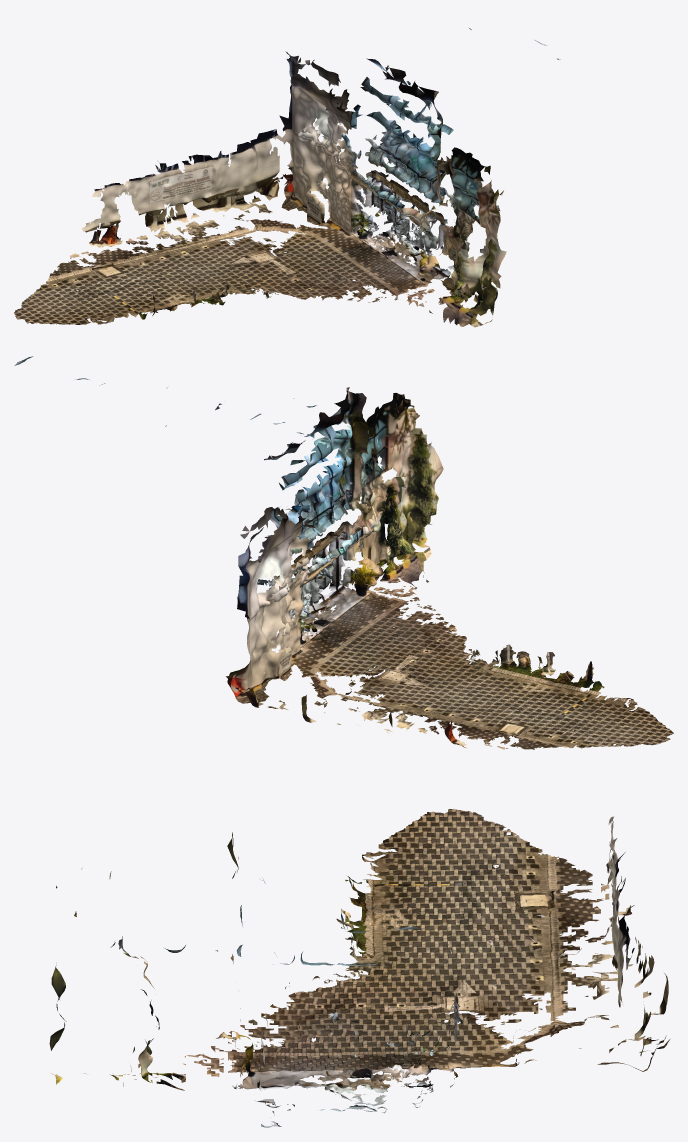
Rendered from 147558-OTWlifttower-tex.glb.
The picture shows the model from 3 angles, top to bottom: view 1: azimuth 30°, elevation 25°; view 2: azimuth 150°, elevation 25°; view 3: azimuth 270°, elevation 25°; orthographic projection. The views are drawn at different scales.
Parts seen in each view (by area): view 1: Node; view 2: Node; view 3: Node.
Boxes of the visible parts, x1,y1,x2,y2 form: Node: [14, 28, 560, 327]; Node: [14, 356, 673, 749]; Node: [49, 809, 669, 1127].
Size of the model in its own units: 28.17 by 8.61 by 16.14.
Materials: 16 (16 with a texture image).
